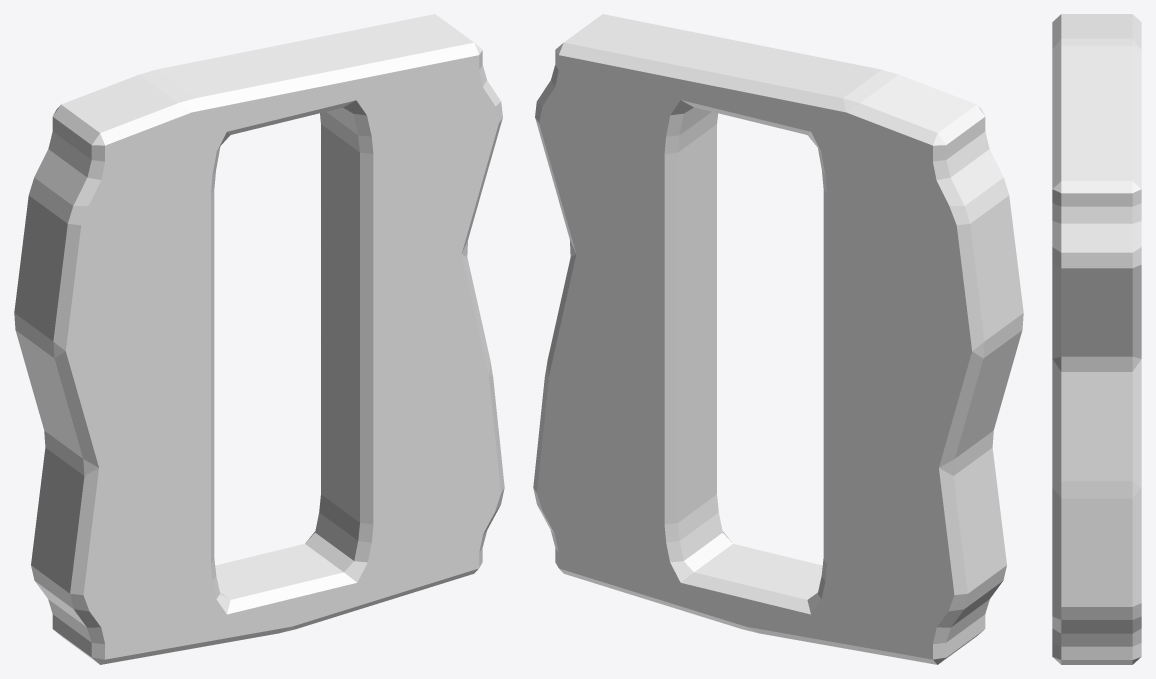
The model's file is zero.glb.
The picture shows the model from 3 angles, left to right: view 1: azimuth 30°, elevation 25°; view 2: azimuth 150°, elevation 25°; view 3: azimuth 270°, elevation 25°; orthographic projection. The views are drawn at different scales.
Parts seen in each view (by area): view 1: Zero; view 2: Zero; view 3: Zero.
Boxes of the visible parts, box(x1,y1,x2,y2) form: Zero: box(14, 14, 504, 664); Zero: box(533, 14, 1023, 664); Zero: box(1052, 14, 1141, 664).
Size of the model in its own units: 0.1825 by 0.2147 by 0.0343.
1 material, 1 textured.
